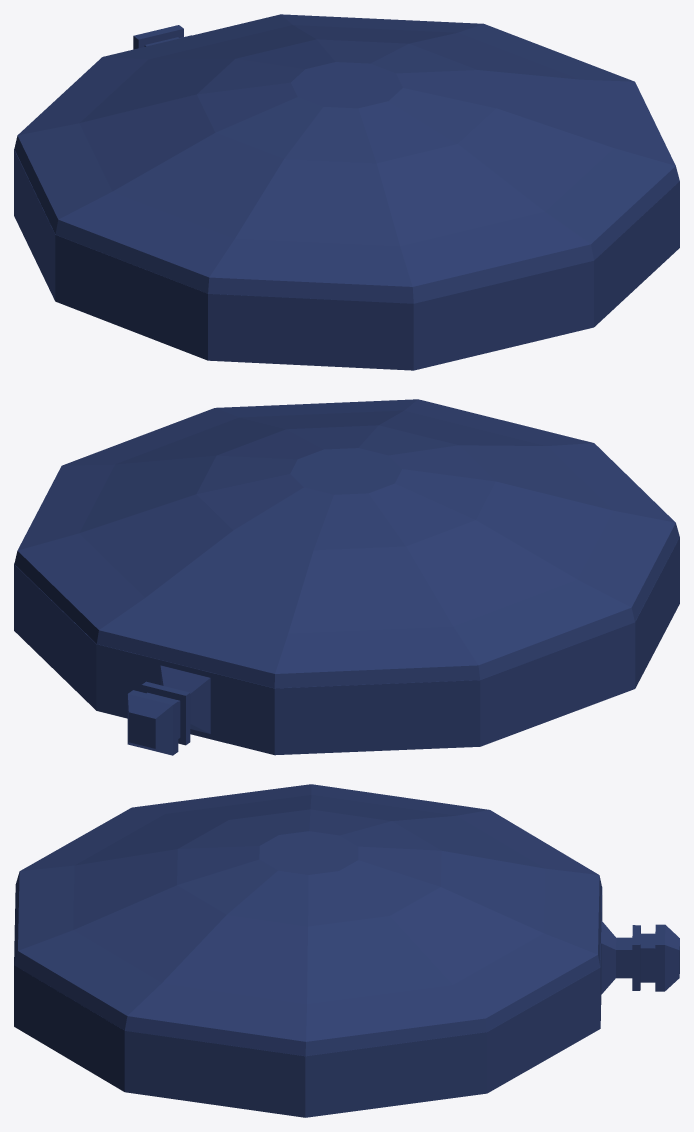
Rendered from PocketWatch.fbx.
The picture shows the model from 3 angles, top to bottom: view 1: azimuth 30°, elevation 25°; view 2: azimuth 150°, elevation 25°; view 3: azimuth 270°, elevation 25°; orthographic projection. The views are drawn at different scales.
Visible parts, largest first — view 1: Cylinder.001, Cylinder; view 2: Cylinder.001, Cylinder; view 3: Cylinder.001, Cylinder.
Boxes of the visible parts, x1,y1,x2,y2 form: Cylinder.001: (14,14,679,303); Cylinder: (14,25,679,370); Cylinder.001: (14,399,679,688); Cylinder: (14,537,679,755); Cylinder.001: (14,784,601,1056); Cylinder: (14,887,679,1117).
Bounding box in the file's own units: 0.3994 × 0.4312 × 0.1402.
